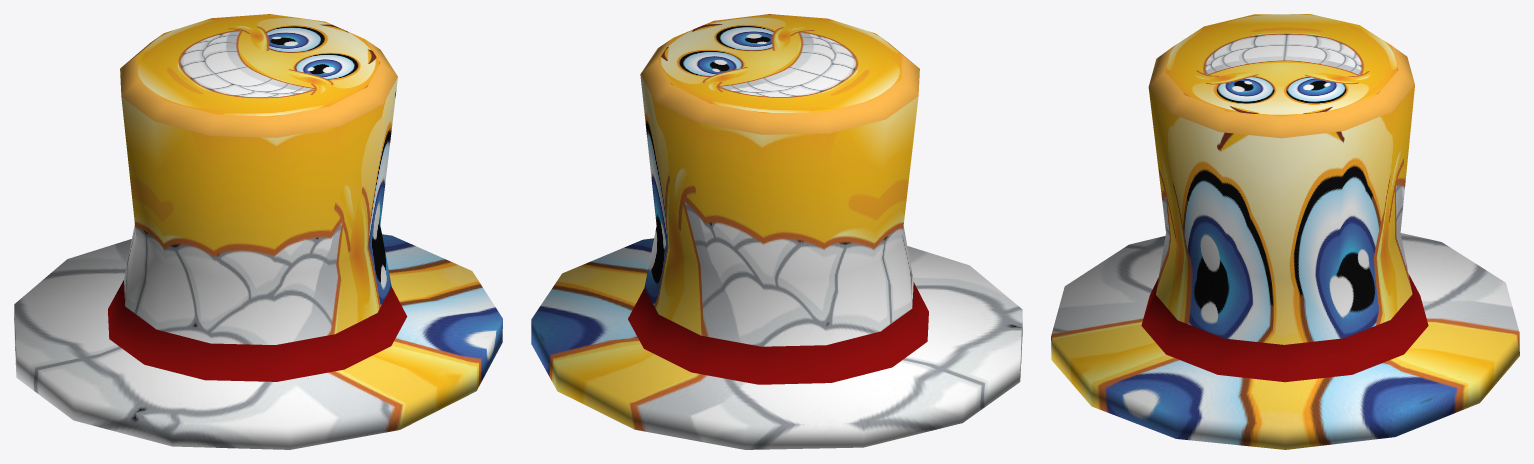
File: TOP HAT_01.FBX
3 renders of one model, left to right at view 1: azimuth 30°, elevation 25°; view 2: azimuth 150°, elevation 25°; view 3: azimuth 270°, elevation 25°, orthographic.
Visible parts, largest first — view 1: Cylinder001; view 2: Cylinder001; view 3: Cylinder001.
Boxes of the visible parts, x1,y1,x2,y2 form: Cylinder001: (14,14,502,449); Cylinder001: (531,14,1022,449); Cylinder001: (1051,14,1519,449).
Bounding box in the file's own units: 212 × 136 × 204.
3 materials, 1 textured.
